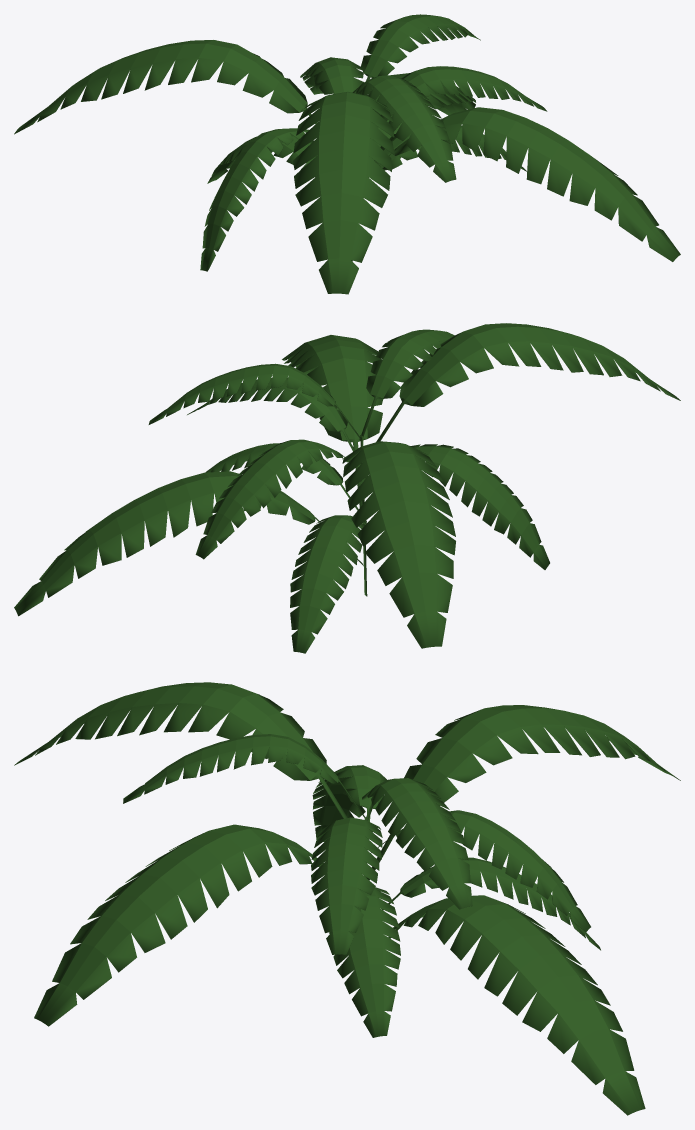
Rendered from Bush2.fbx.
3 renders of one model, top to bottom at view 1: azimuth 30°, elevation 25°; view 2: azimuth 150°, elevation 25°; view 3: azimuth 270°, elevation 25°, orthographic. The views are drawn at different scales.
Visible parts, largest first — view 1: grass2; view 2: grass2; view 3: grass2.
Part boxes in pixels (x1,y1,x2,y2): grass2: (14,14,680,294); grass2: (14,323,680,653); grass2: (14,682,680,1115).
Bounding box in the file's own units: 314 × 161 × 356.
